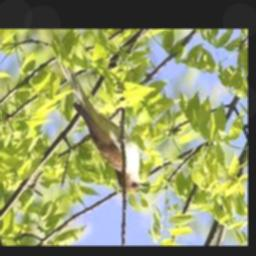Cuckoo: (57, 58, 150, 192)
